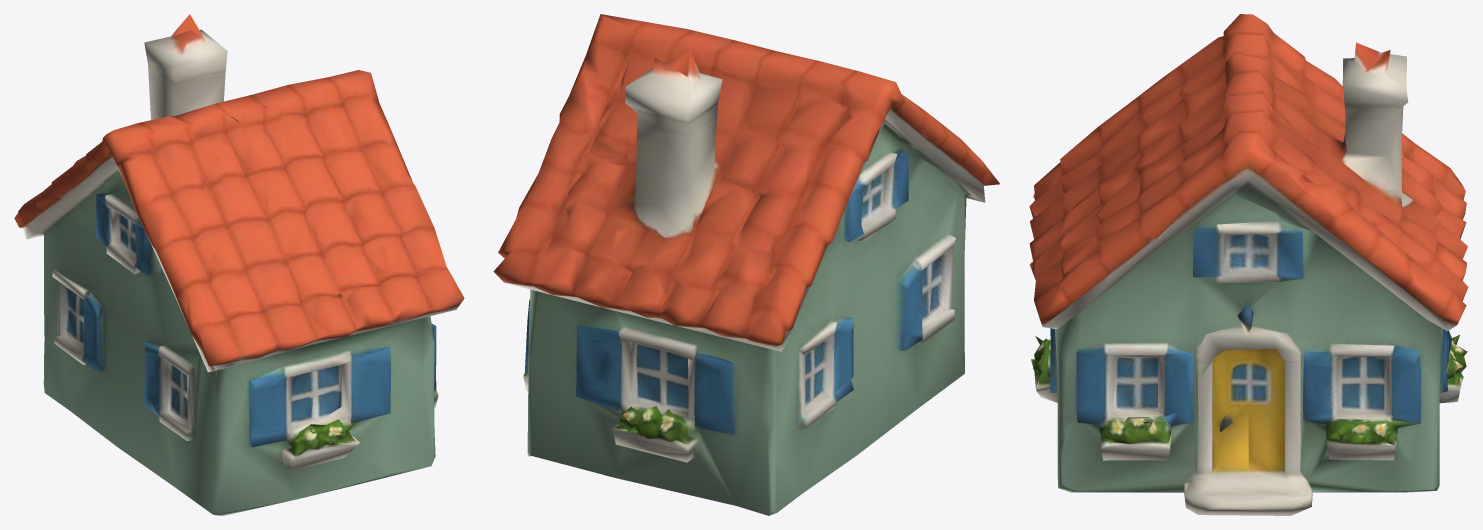
The model's file is house.glb.
3 renders of one model, left to right at view 1: azimuth 30°, elevation 25°; view 2: azimuth 150°, elevation 25°; view 3: azimuth 270°, elevation 25°, orthographic. The views are drawn at different scales.
Parts seen in each view (by area): view 1: tripo_node_1758a85c-cb65-4242-9552-2fde2af8bbfb; view 2: tripo_node_1758a85c-cb65-4242-9552-2fde2af8bbfb; view 3: tripo_node_1758a85c-cb65-4242-9552-2fde2af8bbfb.
Boxes of the visible parts, box(x1,y1,x2,y2) form: tripo_node_1758a85c-cb65-4242-9552-2fde2af8bbfb: box(14, 14, 464, 515); tripo_node_1758a85c-cb65-4242-9552-2fde2af8bbfb: box(493, 14, 999, 515); tripo_node_1758a85c-cb65-4242-9552-2fde2af8bbfb: box(1029, 14, 1468, 515).
Bounding box in the file's own units: 0.7996 × 0.9963 × 1.
1 material, 1 textured.
